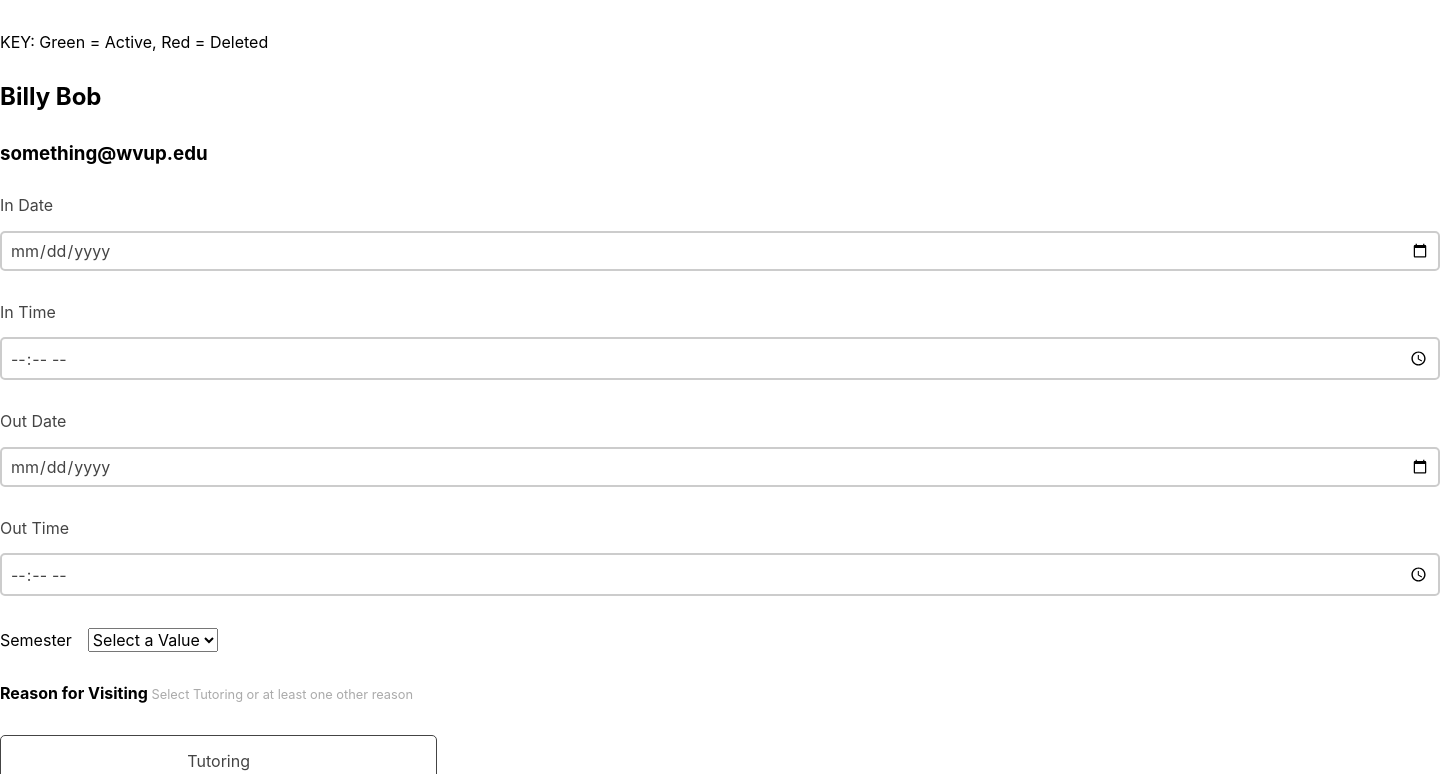
Should display fetch response message when fetch returns non 2XX status code
This screenshot has width=1440, height=774.
Type "2019-05-10" into the date field labelled "In Date" at point(720, 251), box [0, 231, 1439, 271]
Type "2019-05-11" into the date field labelled "Out Date" at point(720, 467), box [0, 447, 1439, 487]
Type "14:00" into the time field labelled "In Time" at point(720, 359), box [0, 338, 1439, 380]
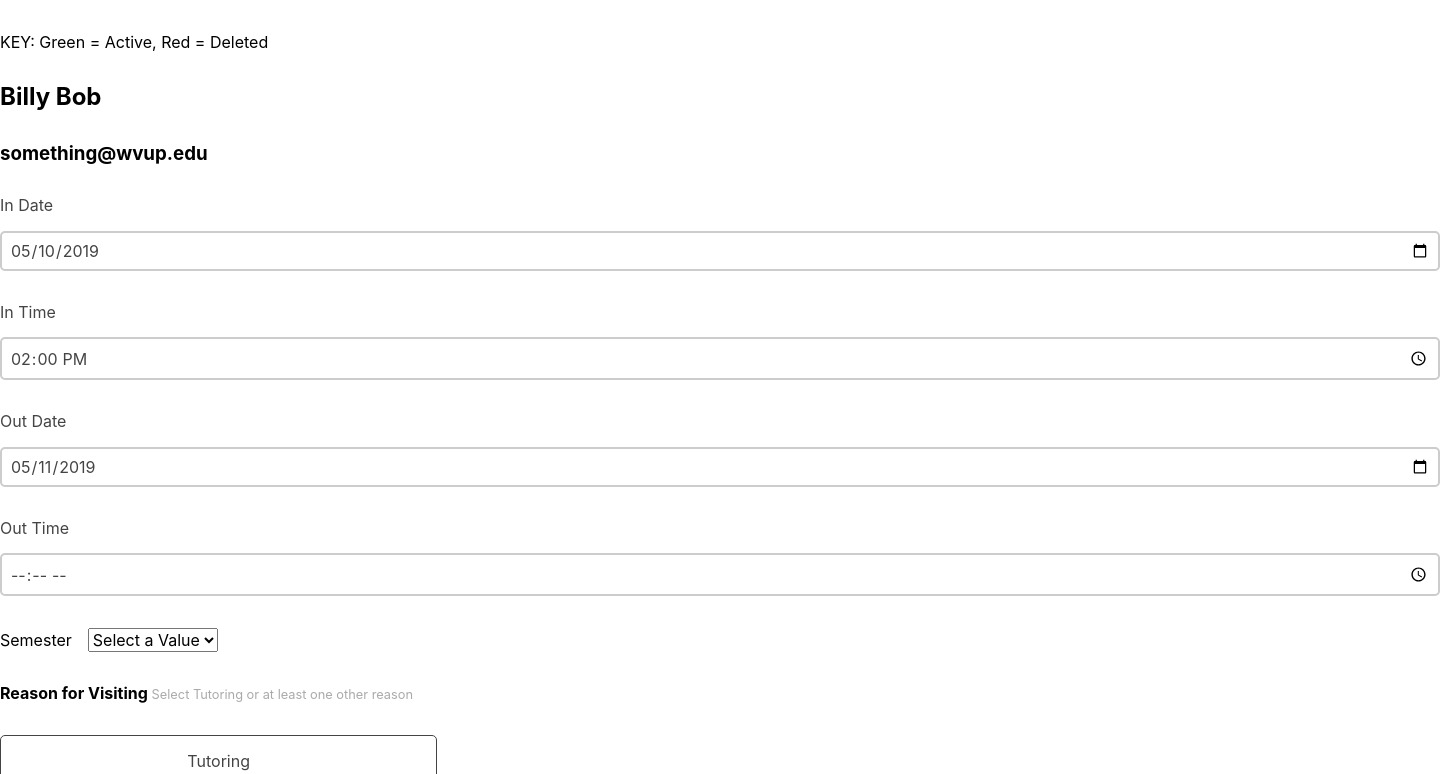
Type "16:00" into the time field labelled "Out Time" at point(720, 575), box [0, 553, 1439, 596]
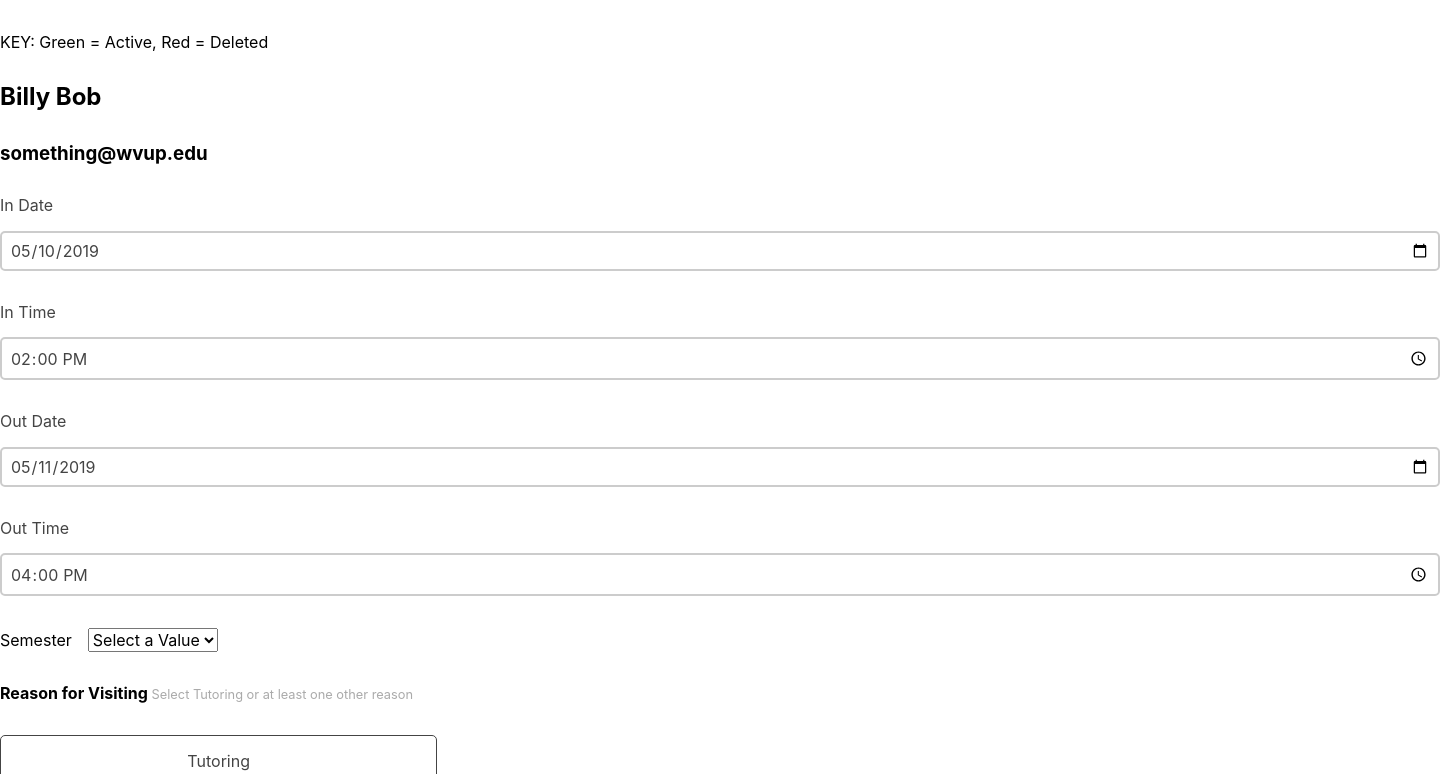
Select "Summer 2019" in the dropdown with test id "semester-select" at point(153, 640), box [88, 628, 218, 652]
(page scrolled)
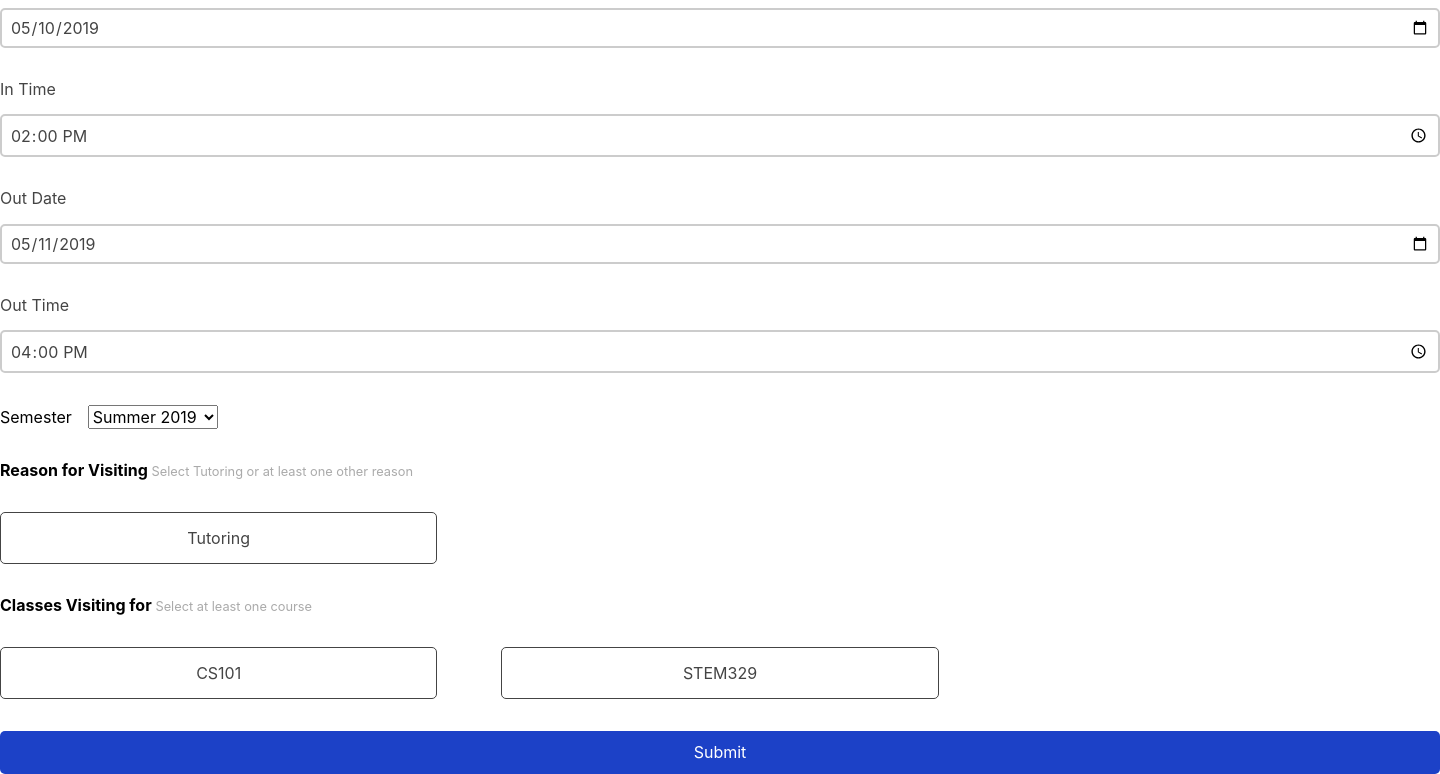
Click the checkbox labelled "Tutoring" at point(219, 538), box [0, 512, 437, 564]
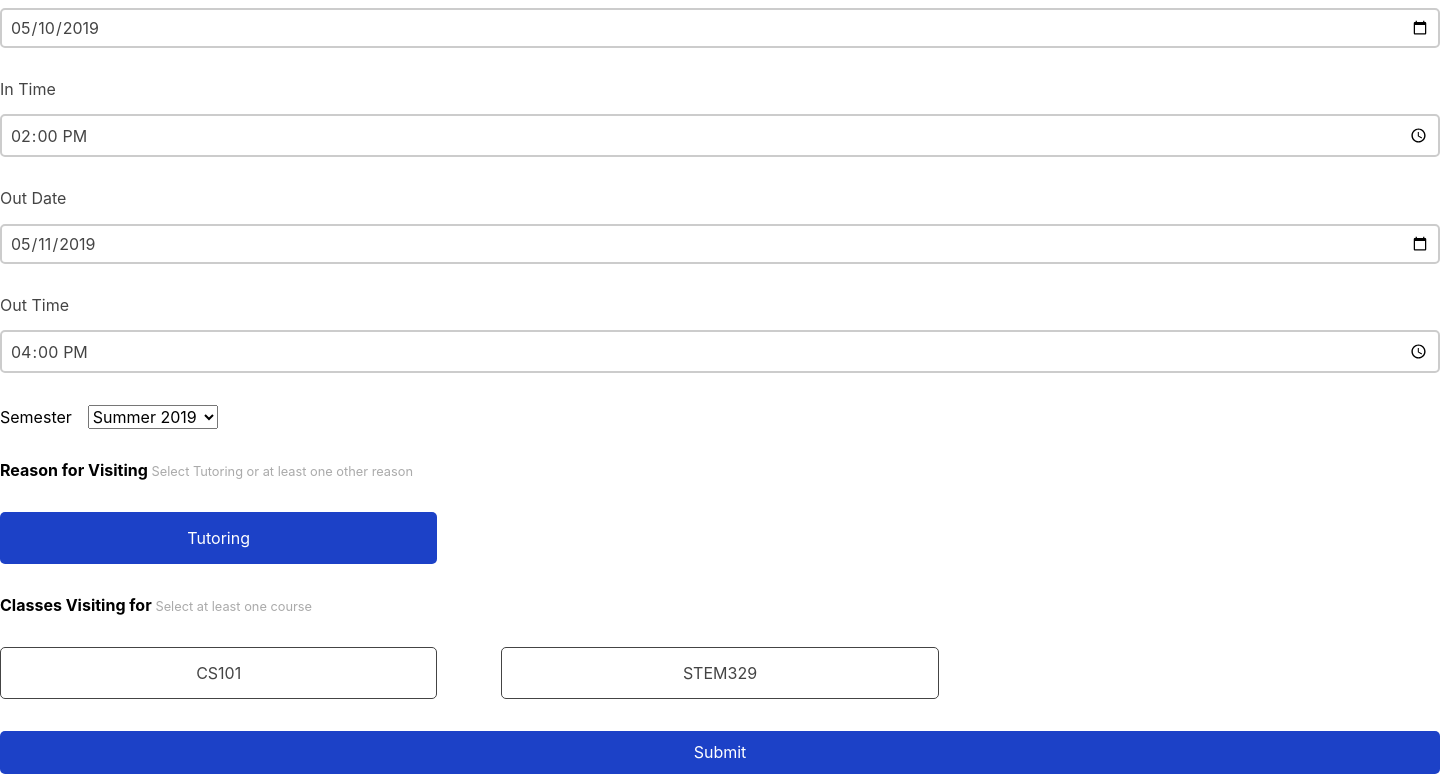
Click the checkbox "CS101" at point(219, 673), box [0, 647, 437, 699]
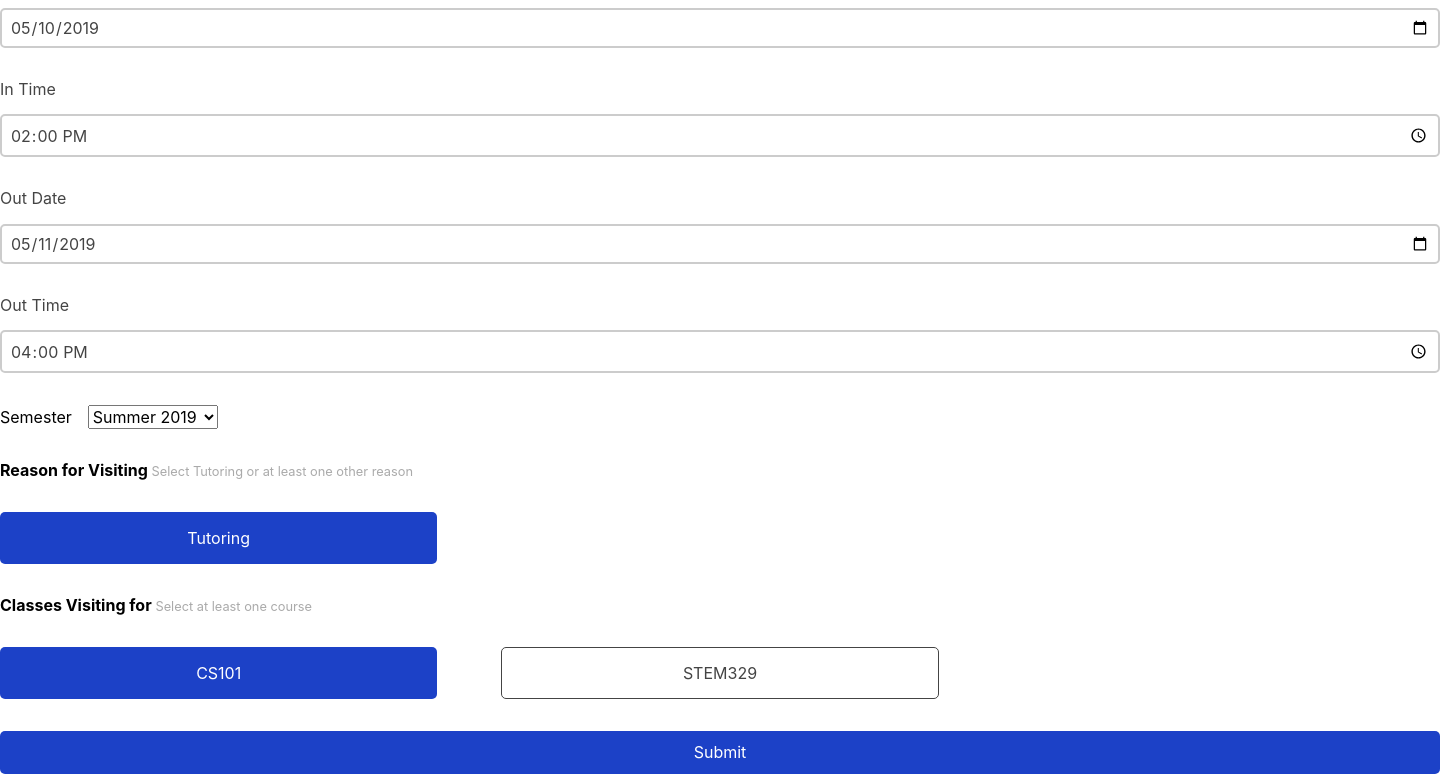
Submit the form from the button "Submit", box [0, 731, 1439, 773]
(page scrolled)
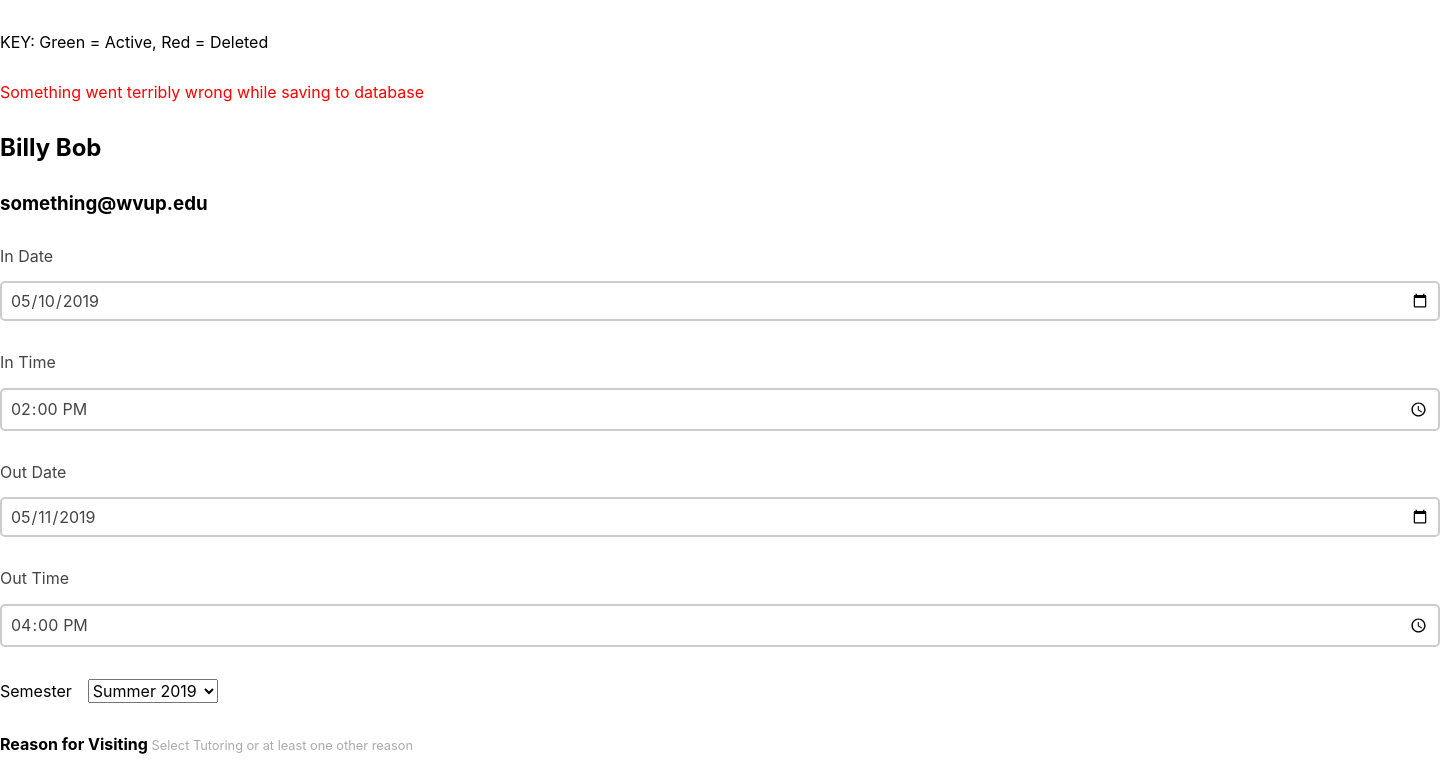
Check: the text "Something went terribly wrong while saving to database" is shown, box [0, 82, 424, 102]
